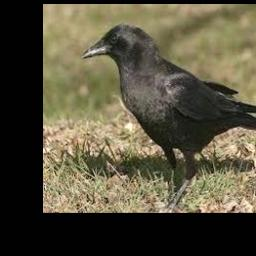Crow: (82, 23, 256, 213)
